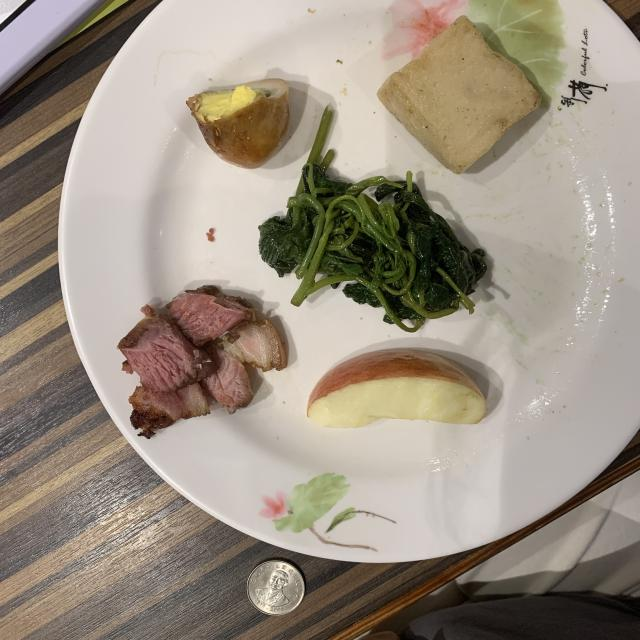apple -sliced-: (308, 349, 486, 428)
coin: (248, 559, 305, 615)
creamy tofu -without sauce-: (378, 16, 541, 174)
grilled pork: (118, 285, 288, 439)
soy egg: (186, 79, 290, 169)
sweet potato leaves: (259, 108, 486, 332)
